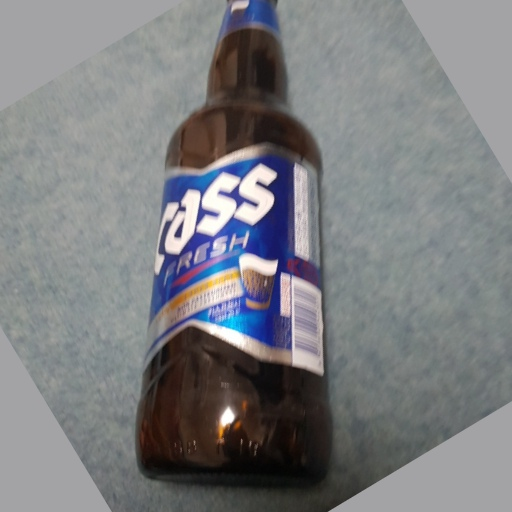Glass_1: (130, 1, 339, 489)
